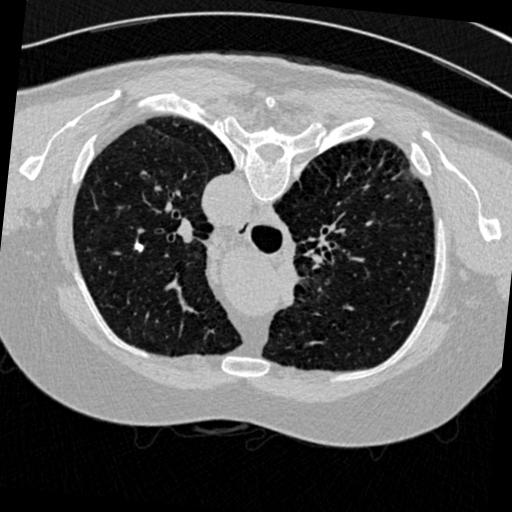nodule: (134, 242, 148, 256)
